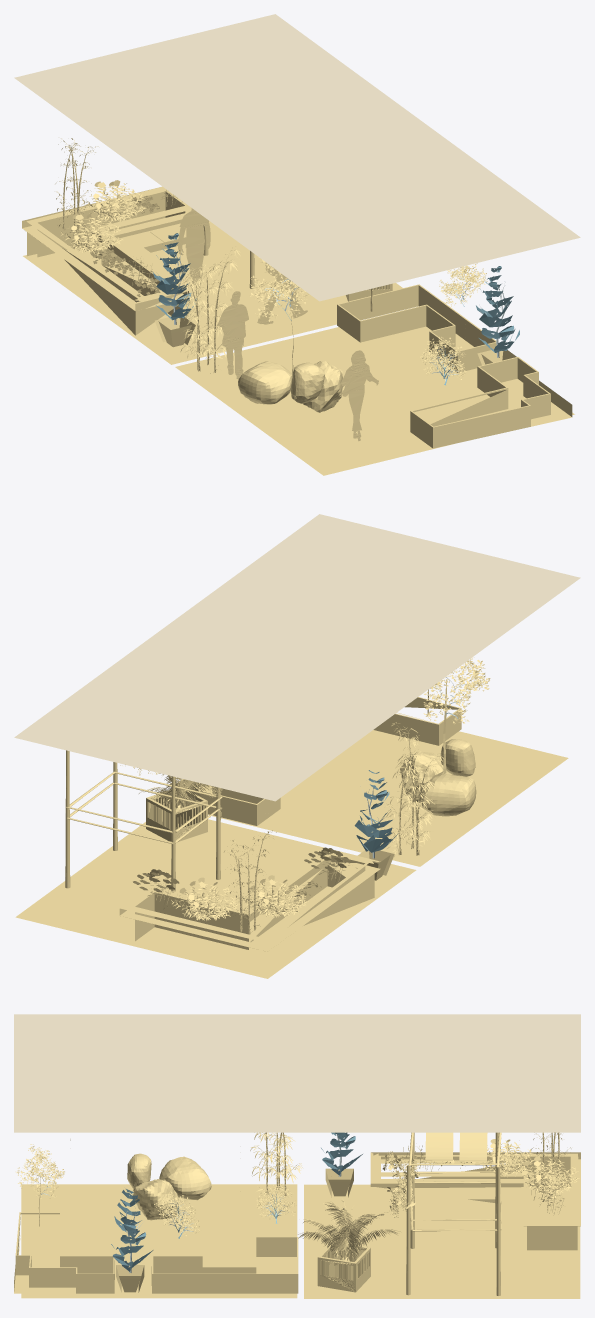
File: gardening_model.glb
3 views of the same model, one above another, from view 1: azimuth 30°, elevation 25°; view 2: azimuth 150°, elevation 25°; view 3: azimuth 270°, elevation 25° (orthographic). The views are drawn at different scales.
Visible parts, largest first — view 1: Gardening, Layer0, LF, LFX_Tree_Canopy; view 2: Gardening, Layer0, LF, LFX_Tree_Canopy; view 3: Layer0, Gardening, LF, LFX_Tree_Canopy.
Boxes of the visible parts, x1,y1,x2,y2 form: Gardening: (14,14,580,301); Layer0: (22,138,574,475); LF: (249,257,487,379); LFX_Tree_Canopy: (153,233,519,352); Gardening: (14,514,580,801); Layer0: (15,697,568,978); LF: (423,657,490,724); LFX_Tree_Canopy: (354,770,398,852); Layer0: (14,1132,580,1298); Gardening: (14,1014,580,1132); LF: (15,1144,295,1235); LFX_Tree_Canopy: (111,1132,362,1271).
Size of the model in its own units: 5.07 by 3.42 by 10.26.
